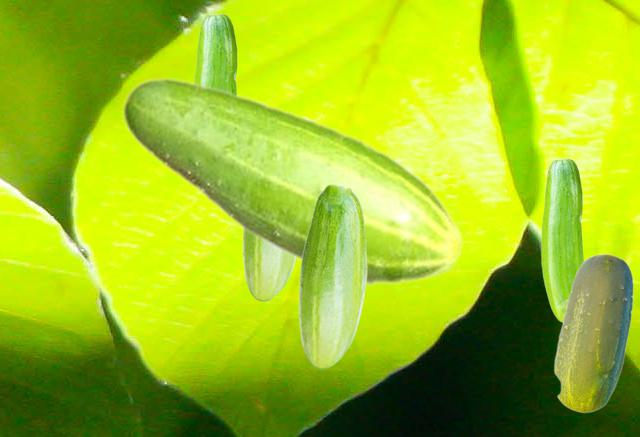cucumber: (121, 76, 464, 287), (298, 183, 366, 368), (553, 253, 632, 412), (541, 158, 584, 322), (242, 231, 296, 300), (194, 13, 237, 92)
